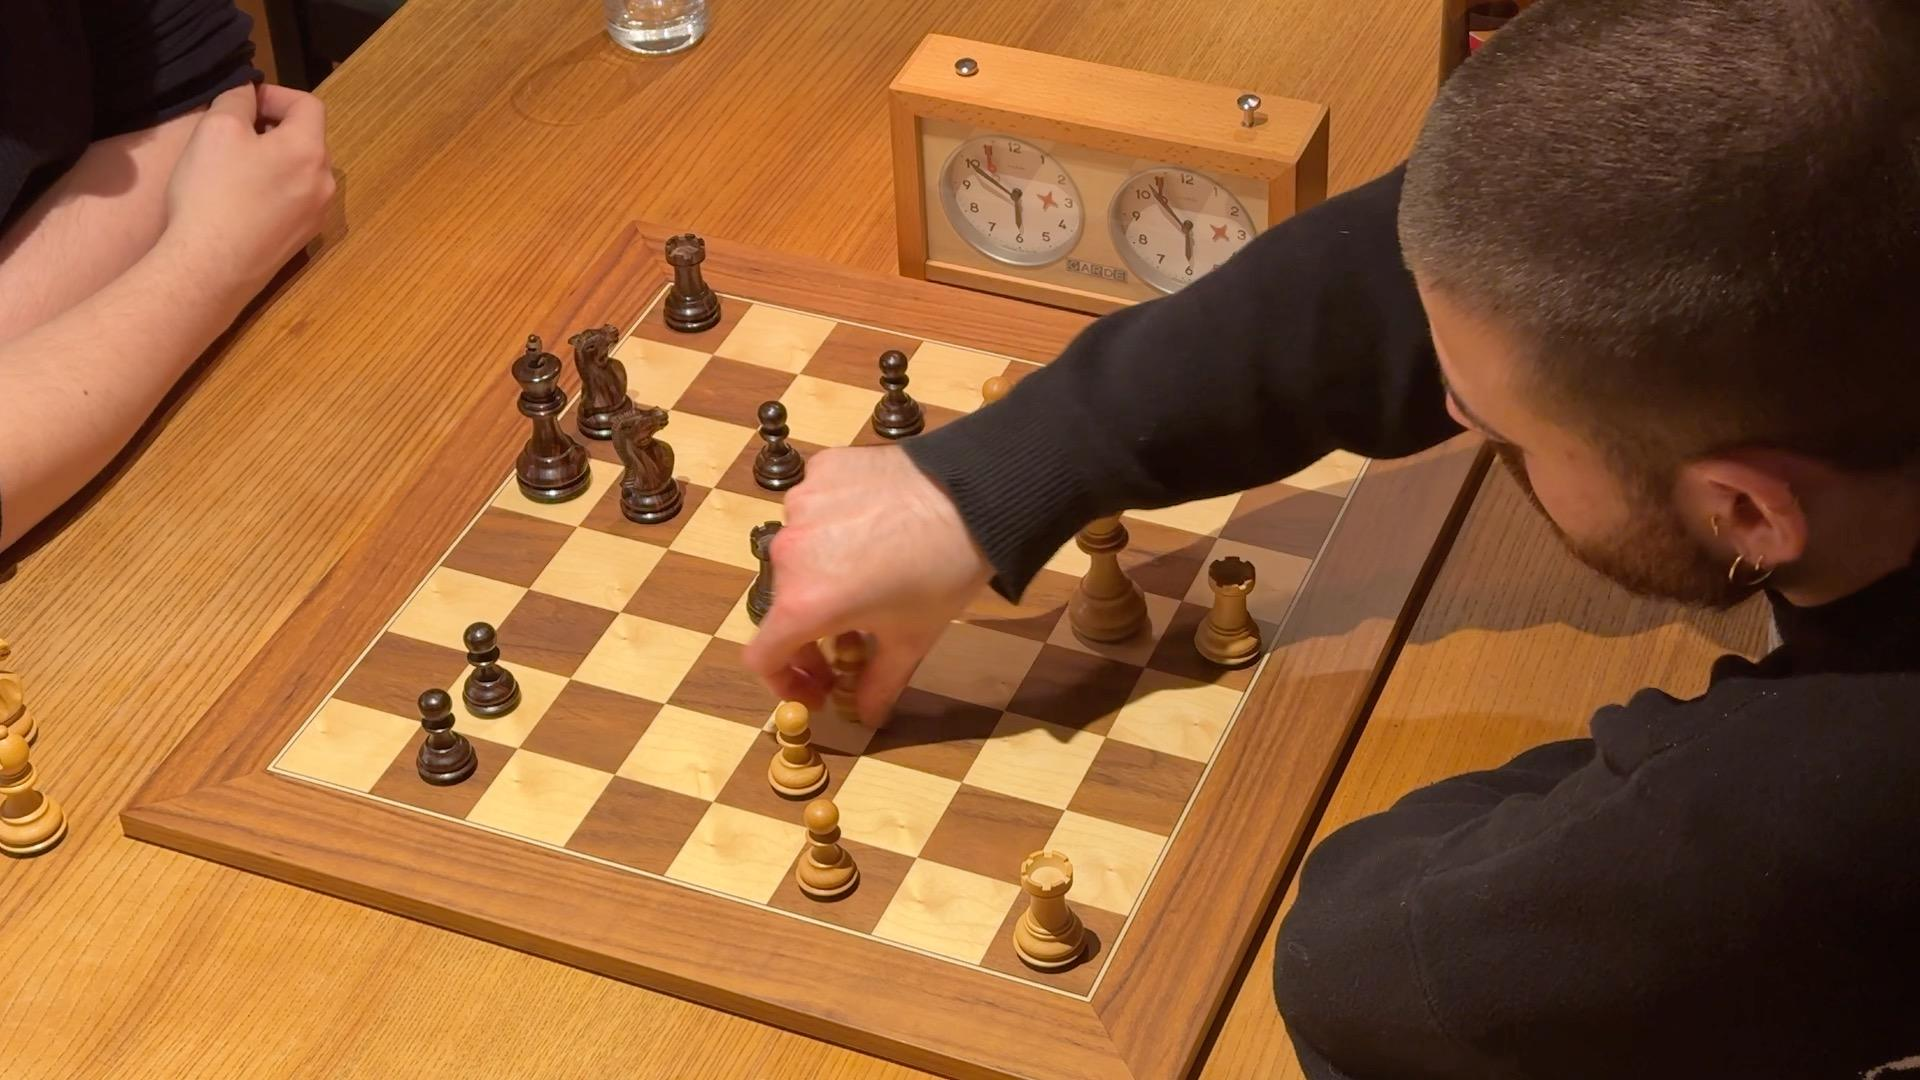Black King: (502, 334, 596, 513)
Black Knight: (608, 405, 688, 526), (568, 320, 645, 444)
Black Pawn: (414, 683, 484, 793), (460, 618, 529, 723), (749, 397, 807, 492), (868, 348, 920, 442)
Black Rook: (744, 516, 815, 633), (659, 229, 725, 335)
White King: (1054, 456, 1159, 649)
White Pawn: (790, 793, 866, 909), (762, 691, 832, 802), (971, 373, 1030, 469), (823, 625, 880, 724)
White Rook: (1011, 845, 1095, 980), (1187, 550, 1267, 669)
